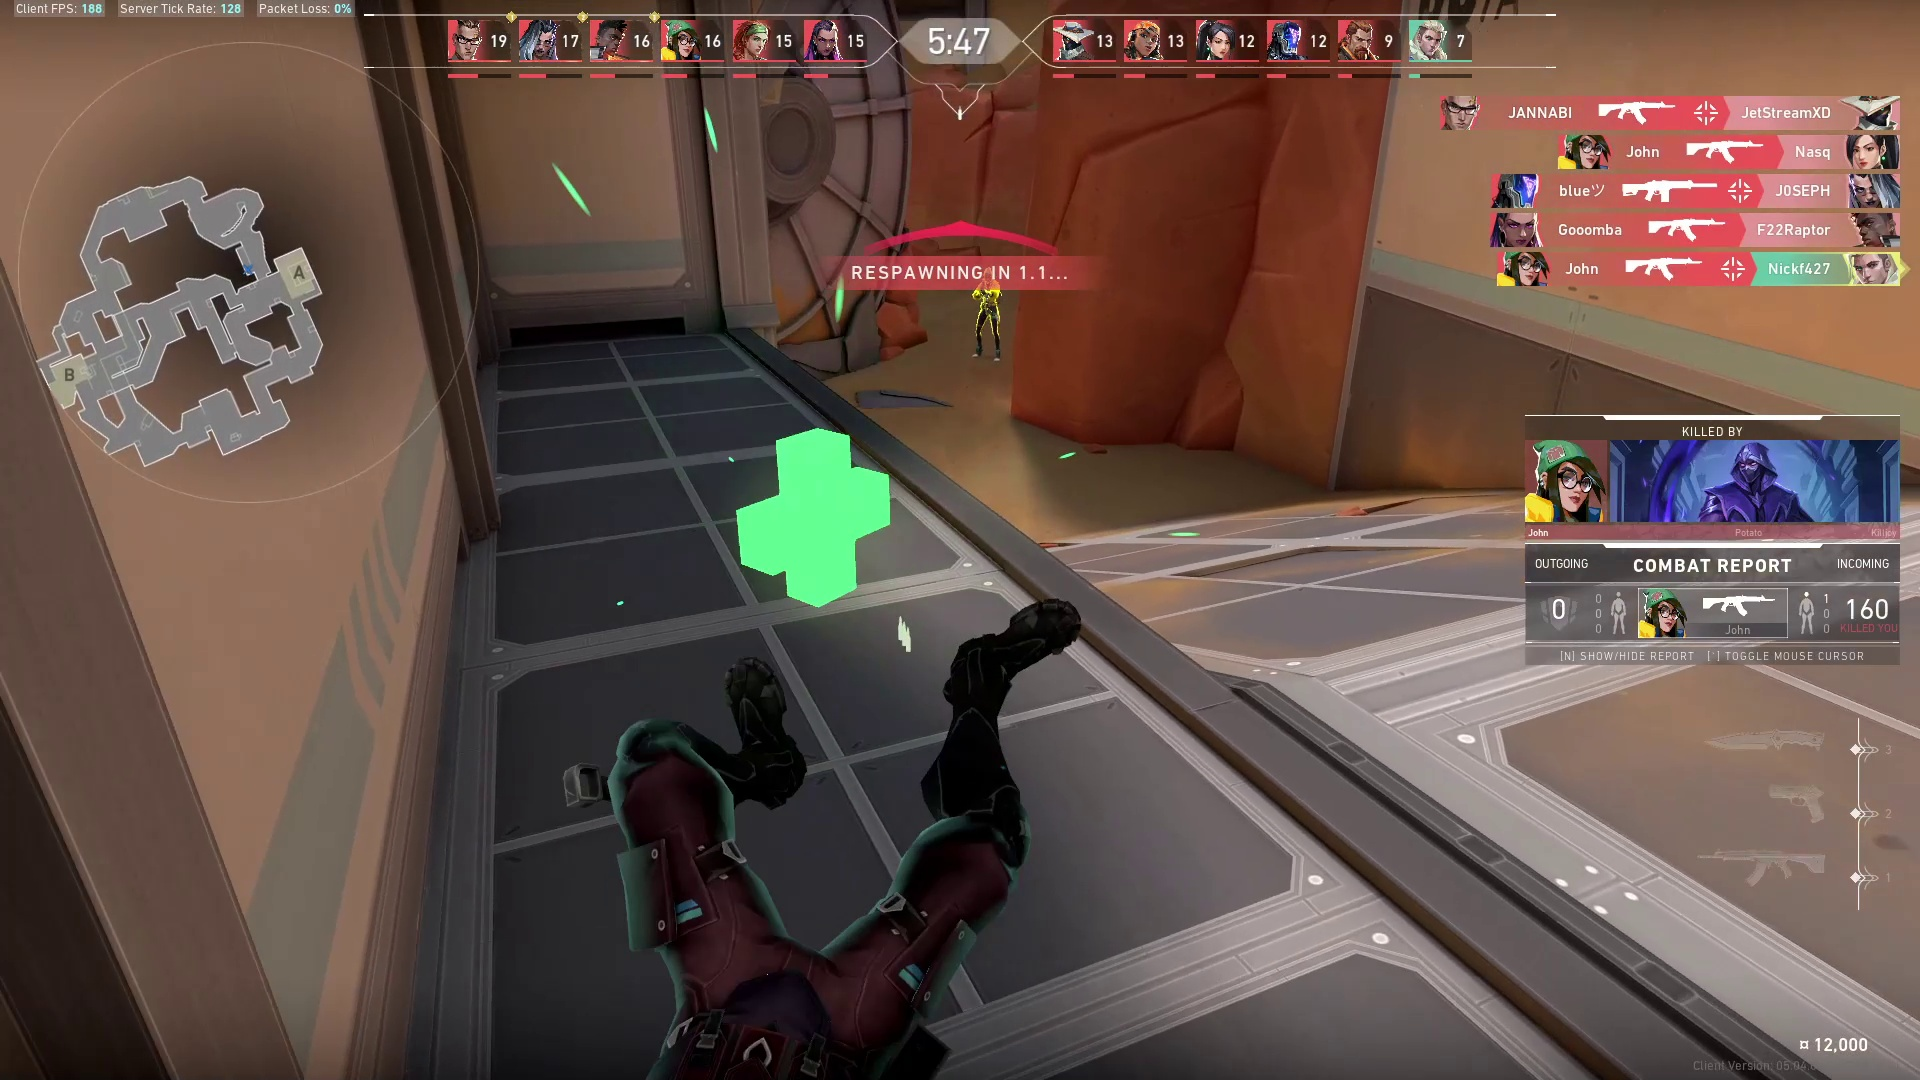enemy_body: (972, 283, 1004, 361)
enemy_head: (979, 265, 996, 285)
